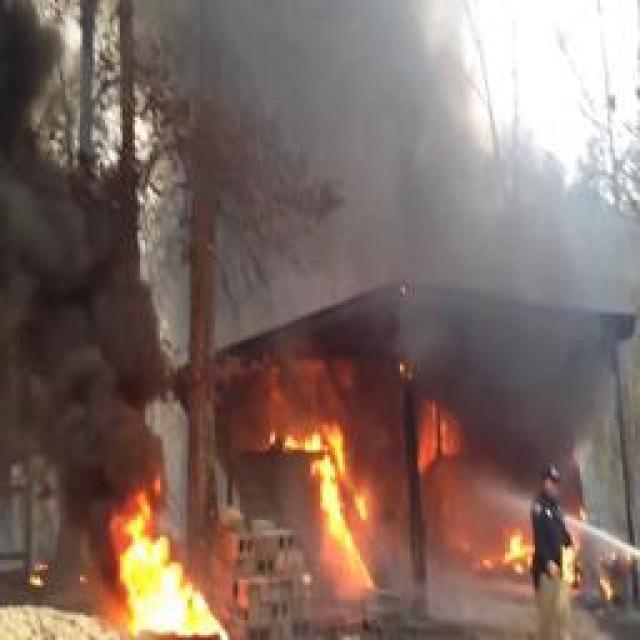Fire: (286, 405, 404, 600), (117, 484, 230, 638), (411, 395, 468, 472), (506, 530, 534, 570)
Smoke: (263, 0, 612, 384), (0, 0, 199, 443)
